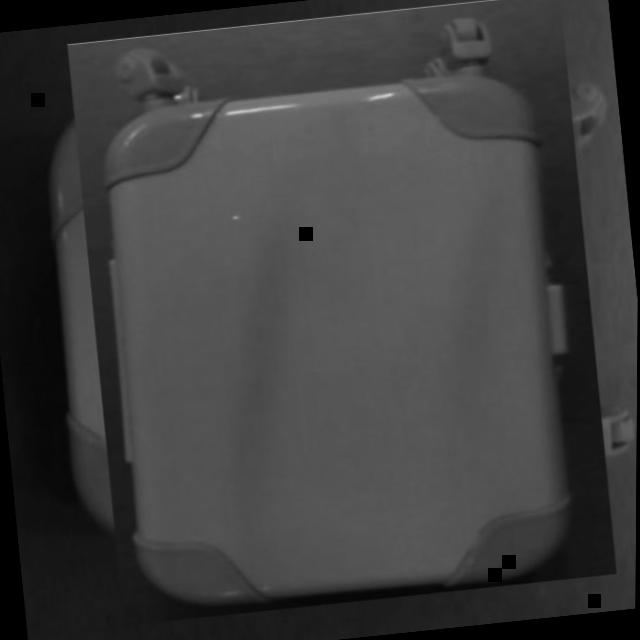luggage: (44, 12, 640, 606)
